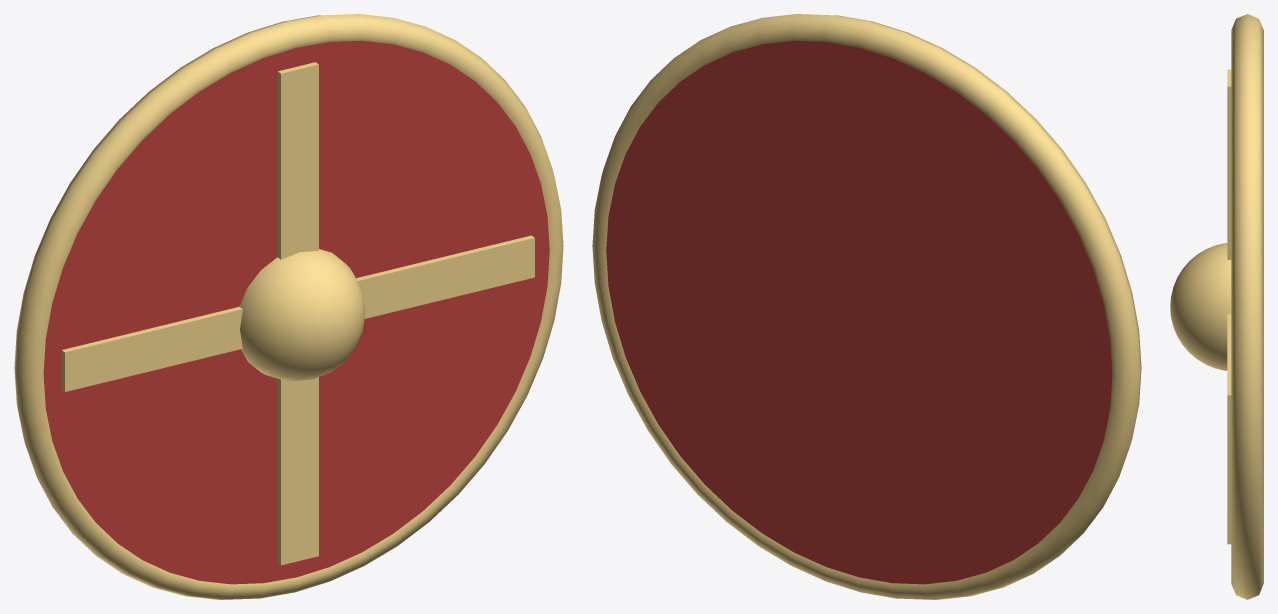
The model's file is scudo.glb.
3 renders of one model, left to right at view 1: azimuth 30°, elevation 25°; view 2: azimuth 150°, elevation 25°; view 3: azimuth 270°, elevation 25°, orthographic. The views are drawn at different scales.
Visible parts, largest first — view 1: scudo; view 2: scudo; view 3: scudo.
Boxes of the visible parts, bbox=[...] form: scudo: bbox=[14, 14, 563, 599]; scudo: bbox=[592, 14, 1141, 599]; scudo: bbox=[1170, 14, 1263, 599].
Bounding box in the file's own units: 0.72 × 0.72 × 0.115.
